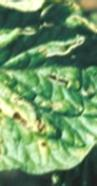Tomato Septoria leaf spot: (0, 0, 97, 171)
